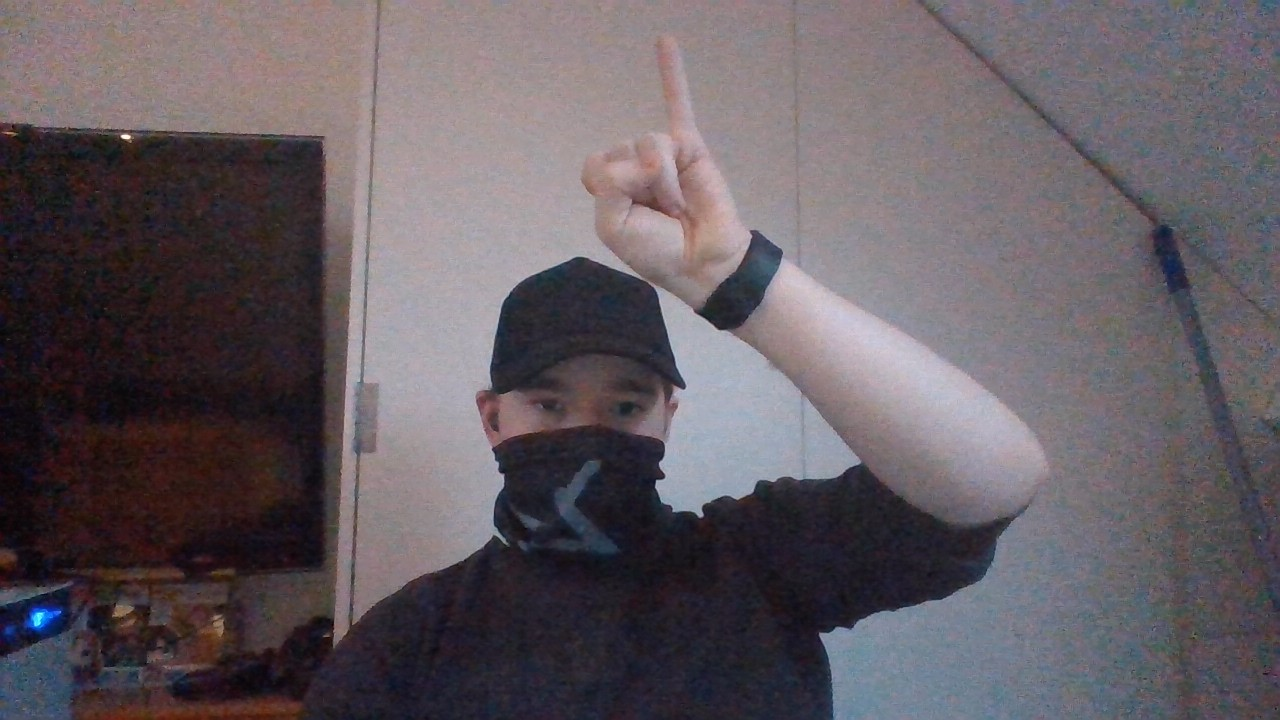I" Sign language: (577, 28, 757, 278)
